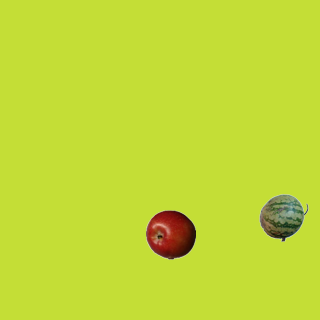Apple Braeburn: (145, 209, 195, 259)
Watermelon: (258, 192, 308, 242)
